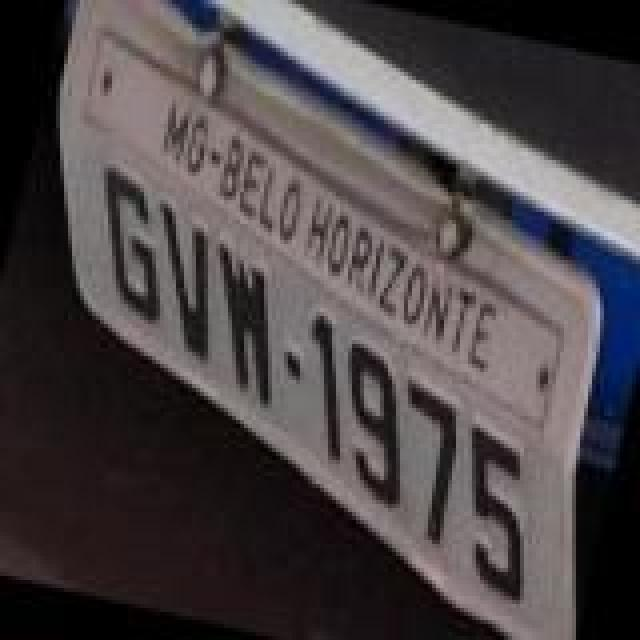1: (282, 312, 374, 472)
5: (434, 420, 558, 604)
7: (372, 378, 476, 550)
9: (318, 338, 434, 510)
G: (70, 168, 186, 328)
V: (128, 196, 240, 364)
W: (190, 242, 306, 414)
